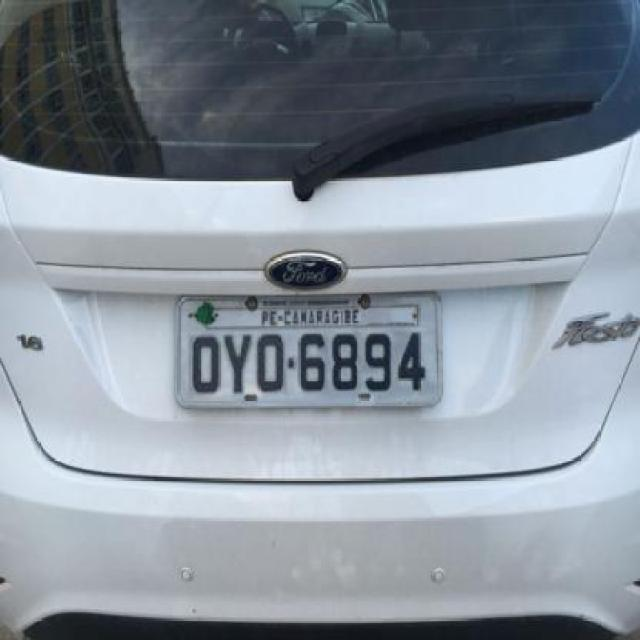old_plate: (170, 290, 450, 416)
